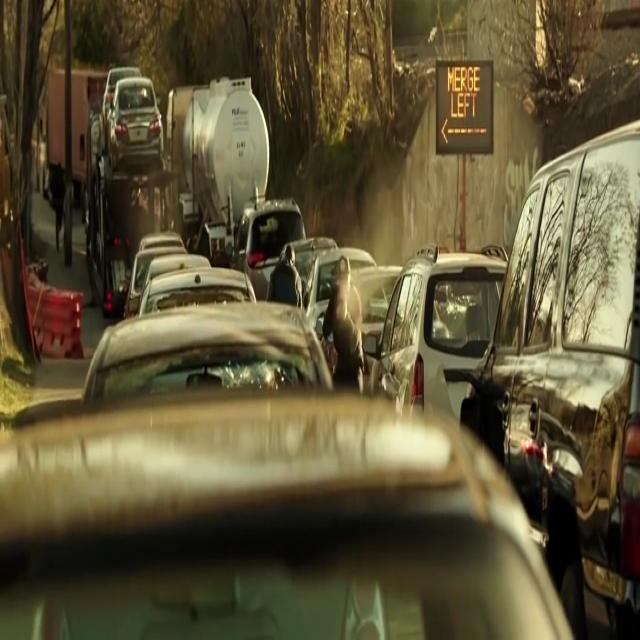Weapon: (328, 275, 364, 329)
